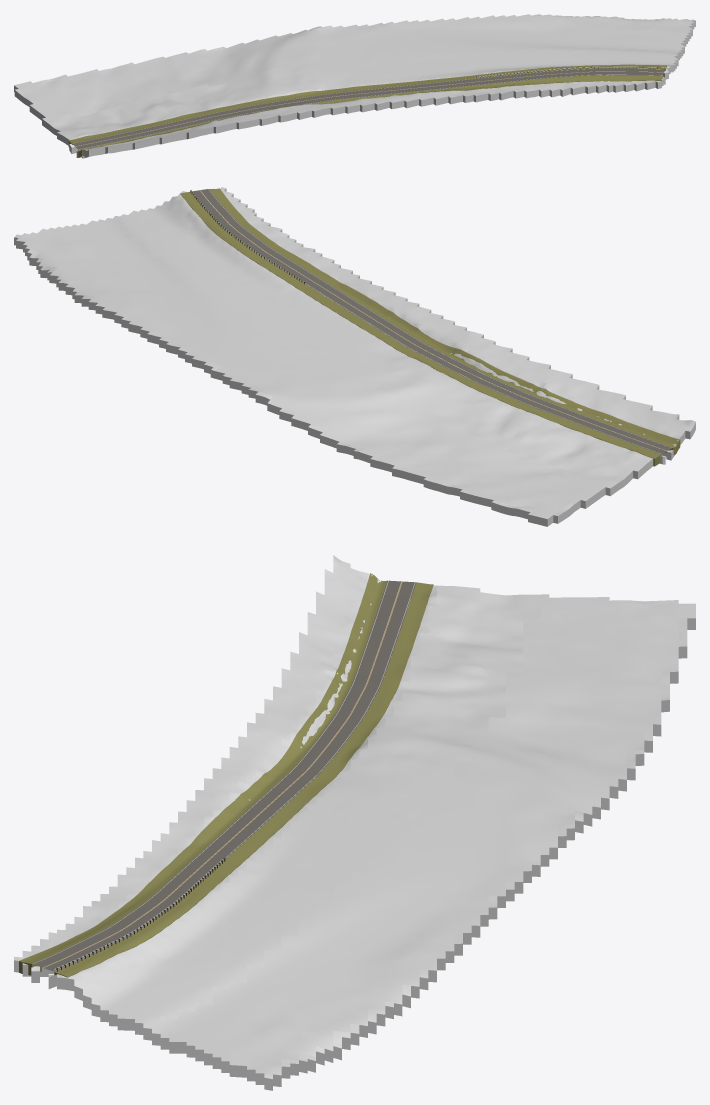
The model's file is conz_42.glb.
The picture shows the model from 3 angles, top to bottom: view 1: azimuth 30°, elevation 25°; view 2: azimuth 150°, elevation 25°; view 3: azimuth 270°, elevation 25°; orthographic projection. The views are drawn at different scales.
Visible parts, largest first — view 1: terrain42, road42, verge42L, verge42R, paint_yellow42, paint_white42, beam42_31712; view 2: terrain42, road42, verge42R, verge42L, paint_white42, paint_yellow42; view 3: terrain42, road42, verge42L, verge42R, paint_white42, paint_yellow42.
Boxes of the visible parts, <box> form: terrain42: <box>14,14,695,158</box>; road42: <box>72,68,665,149</box>; verge42L: <box>68,64,667,147</box>; verge42R: <box>78,75,662,157</box>; paint_yellow42: <box>76,71,663,146</box>; paint_white42: <box>73,68,662,149</box>; beam42_31712: <box>477,66,665,77</box>; terrain42: <box>14,187,695,526</box>; road42: <box>191,189,672,454</box>; verge42R: <box>209,188,680,455</box>; verge42L: <box>180,192,661,466</box>; paint_white42: <box>193,189,671,453</box>; paint_yellow42: <box>199,190,666,450</box>; terrain42: <box>14,555,695,1090</box>; road42: <box>32,580,416,971</box>; verge42L: <box>54,582,433,977</box>; verge42R: <box>19,573,387,975</box>; paint_white42: <box>33,580,415,971</box>; paint_yellow42: <box>43,581,402,967</box>.
Size of the model in its own units: 286 by 18.13 by 158.
